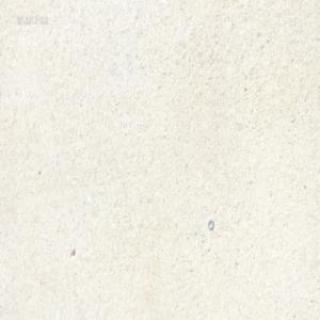Washertrack_idkeyframe: (206, 218, 214, 230)
